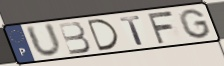B: (56, 21, 93, 56)
D: (85, 17, 121, 52)
F: (145, 10, 175, 45)
G: (178, 8, 213, 40)
T: (118, 14, 146, 47)
U: (23, 21, 64, 59)
